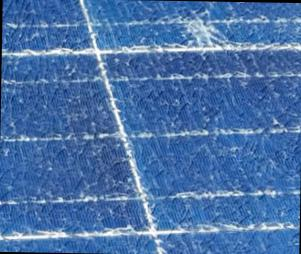Crack: (166, 0, 250, 66)
